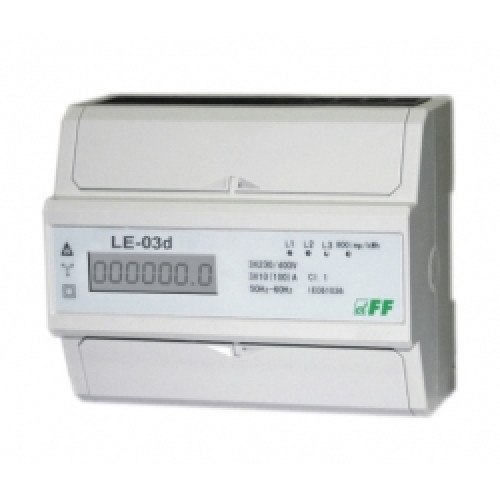counter: (40, 95, 437, 417)
counter_screen: (85, 247, 220, 297)
